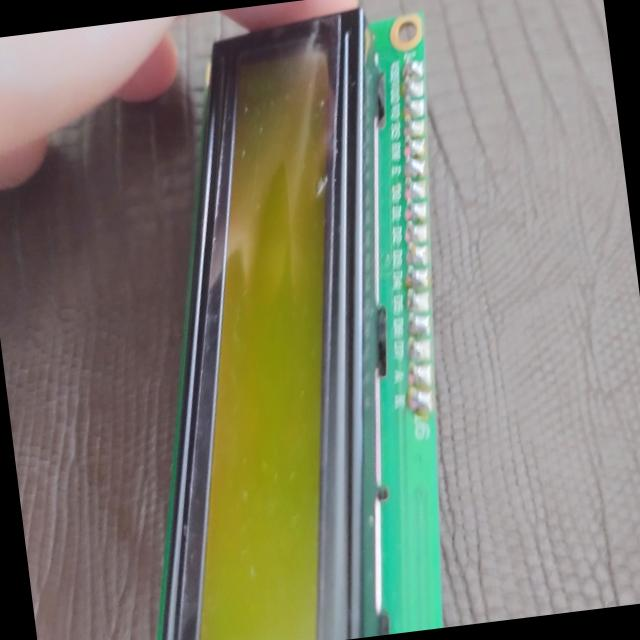lcd: (63, 0, 506, 640)
